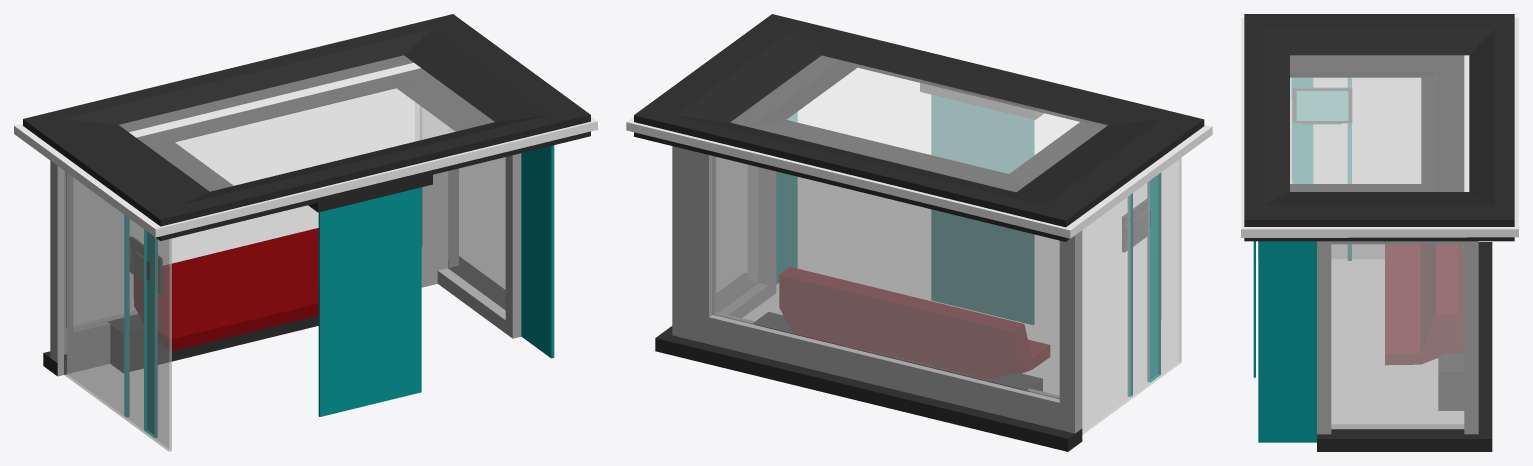
Rendered from poshbustsop.fbx.
The picture shows the model from 3 angles, left to right: view 1: azimuth 30°, elevation 25°; view 2: azimuth 150°, elevation 25°; view 3: azimuth 270°, elevation 25°; orthographic projection. The views are drawn at different scales.
Parts seen in each view (by area): view 1: bustsop[; view 2: bustsop[; view 3: bustsop[.
Part boxes in pixels (bbox=[...]): bustsop[: bbox=[14, 14, 597, 451]; bustsop[: bbox=[626, 14, 1212, 451]; bustsop[: bbox=[1241, 14, 1518, 451].
Bounding box in the file's own units: 4662 × 2428 × 2585.
